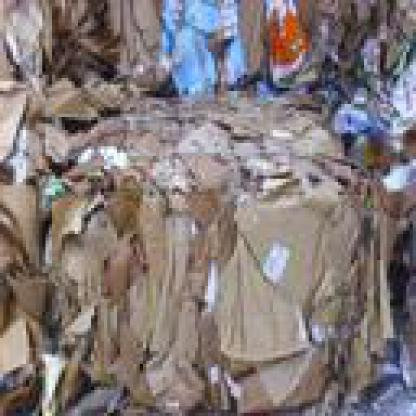CARDBOARD: (0, 0, 413, 413), (65, 91, 351, 195), (332, 52, 413, 221), (228, 192, 358, 296), (214, 231, 312, 361), (117, 195, 159, 406), (84, 178, 126, 384), (45, 179, 117, 299), (312, 266, 377, 396), (354, 176, 394, 364), (35, 0, 98, 117), (166, 185, 230, 296), (143, 299, 205, 413), (62, 302, 133, 387), (68, 0, 121, 111), (0, 0, 53, 111), (228, 348, 328, 406), (0, 296, 49, 412), (163, 0, 221, 88), (348, 0, 412, 78), (0, 179, 36, 315), (299, 0, 351, 91), (117, 0, 166, 94), (211, 0, 263, 88), (260, 0, 302, 91), (10, 113, 68, 178), (159, 212, 195, 302), (0, 78, 29, 179), (3, 266, 46, 328), (36, 348, 65, 412)
